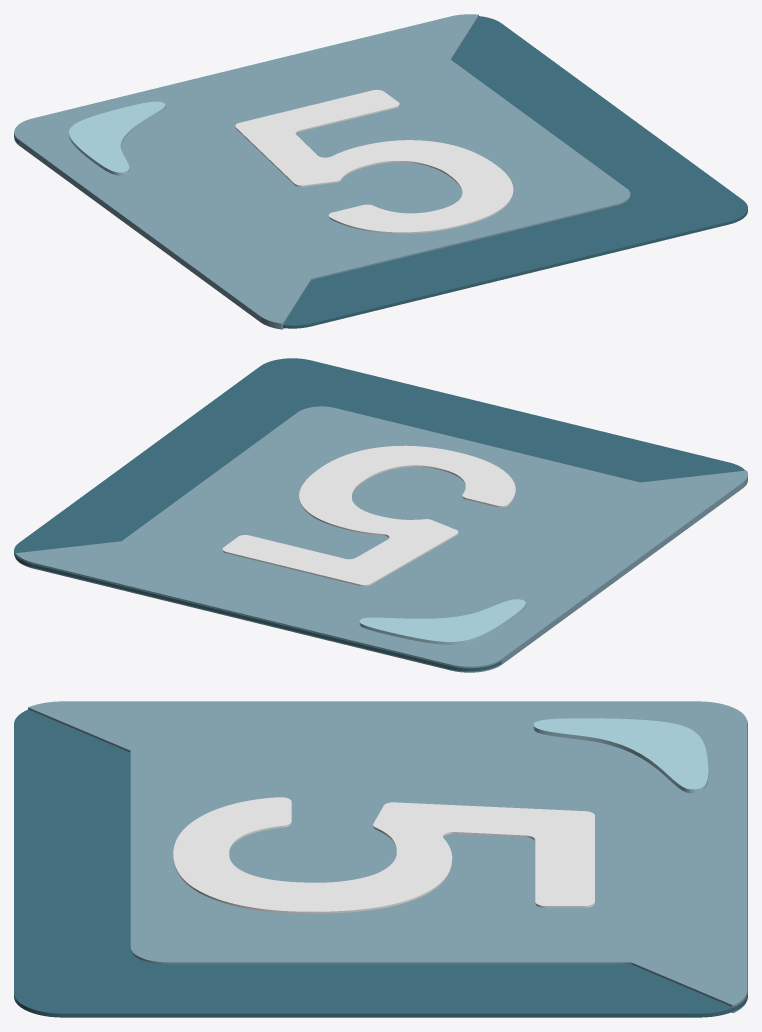
Rendered from emoji_u0035_20e3.glb.
The picture shows the model from 3 angles, top to bottom: view 1: azimuth 30°, elevation 25°; view 2: azimuth 150°, elevation 25°; view 3: azimuth 270°, elevation 25°; orthographic projection. The views are drawn at different scales.
Visible parts, largest first — view 1: emoji_u0035_20e3; view 2: emoji_u0035_20e3; view 3: emoji_u0035_20e3.
Part boxes in pixels (x1,y1,x2,y2): emoji_u0035_20e3: [14, 14, 747, 329]; emoji_u0035_20e3: [14, 358, 747, 672]; emoji_u0035_20e3: [14, 701, 747, 1017].
Size of the model in its own units: 0.0339 by 0.0008 by 0.0339.
